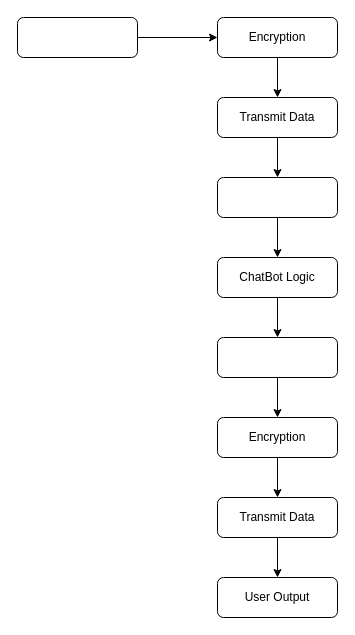
This 355x635 diagram has some shape labels left out. Each missing label, with the centre of its shape:
"Decryption" goes at [277,197].
"Response" goes at [277,357].
"User Input" goes at [77,37].
